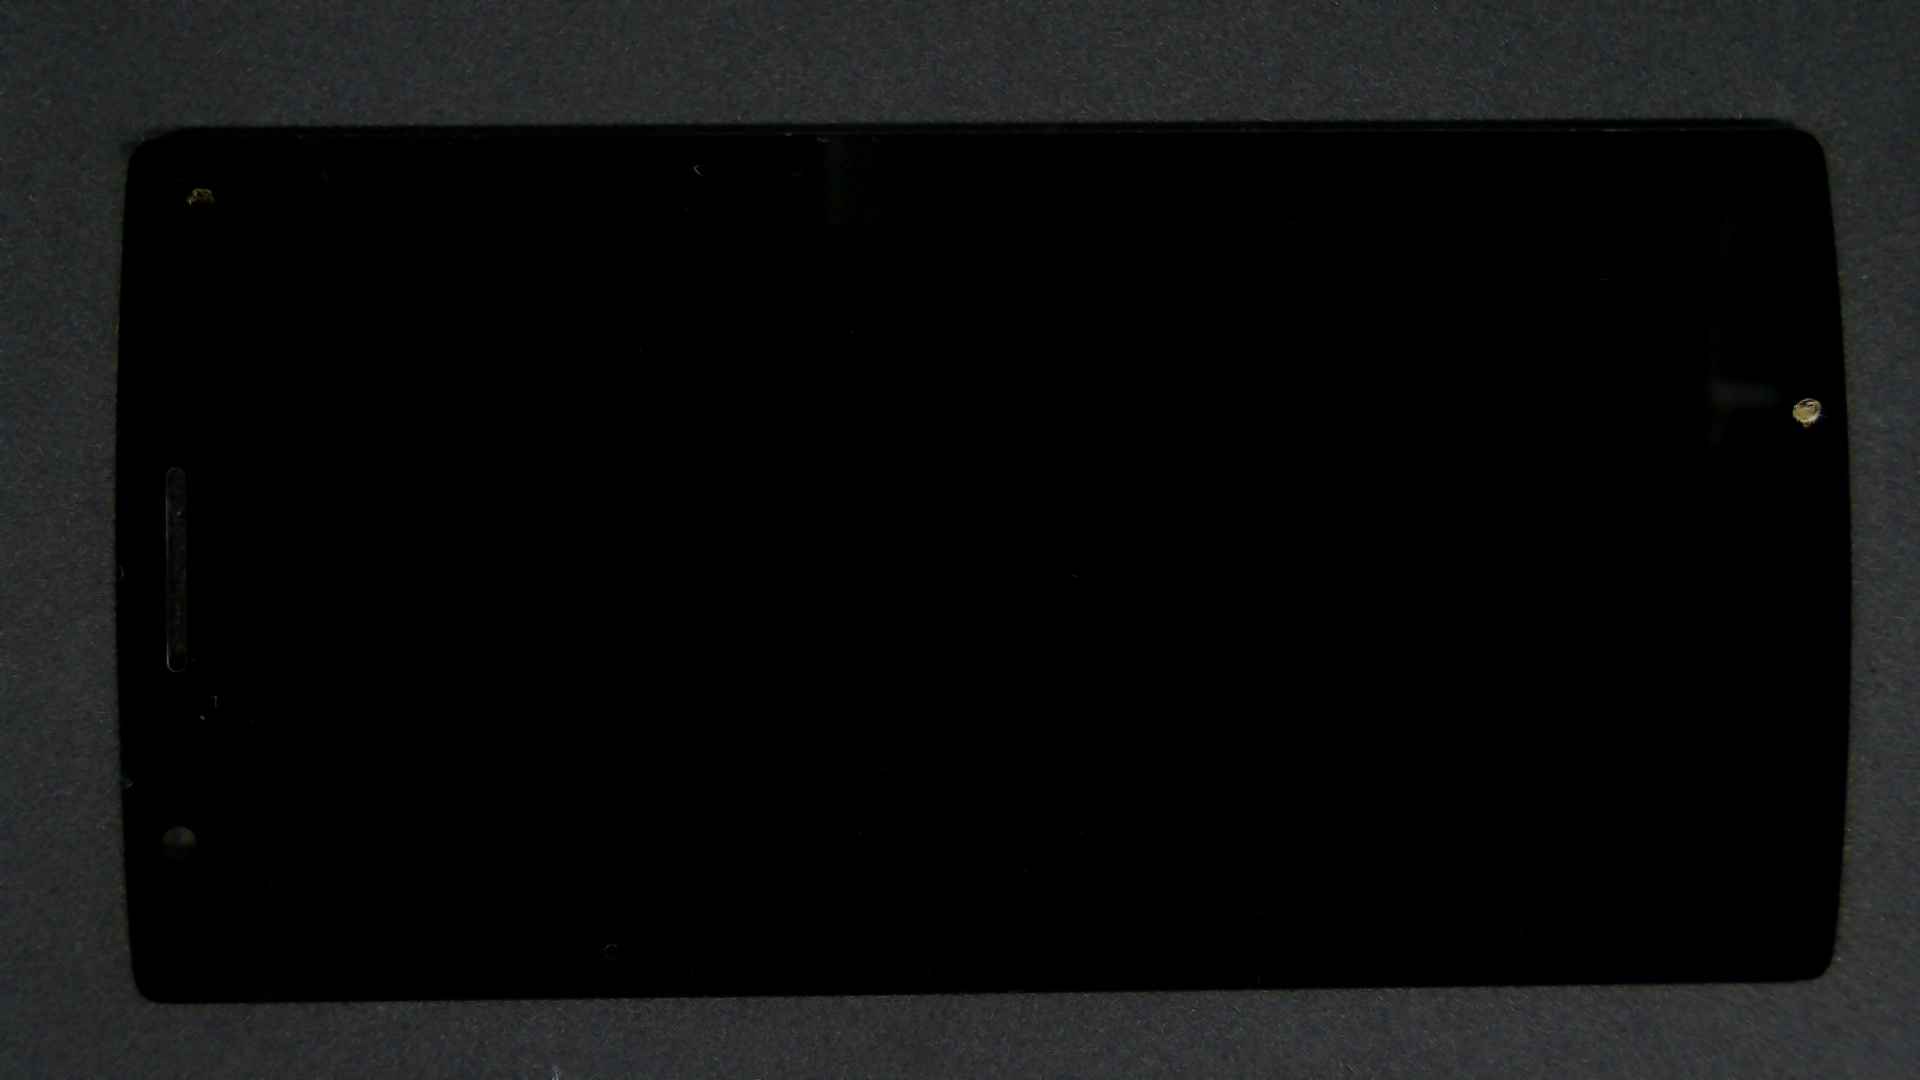oil: (903, 198, 1920, 596)
